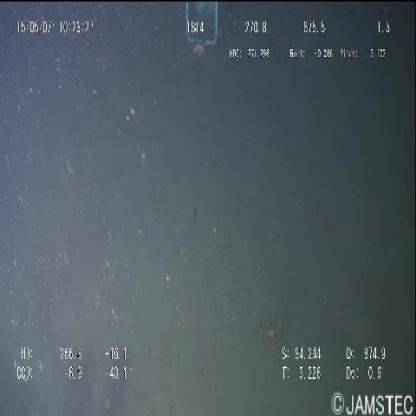Rác: (182, 2, 220, 56)
